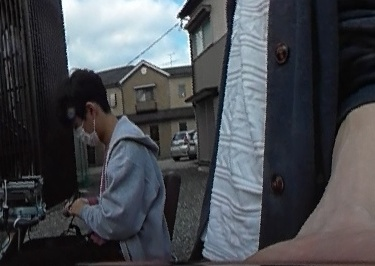person: (59, 68, 169, 266)
